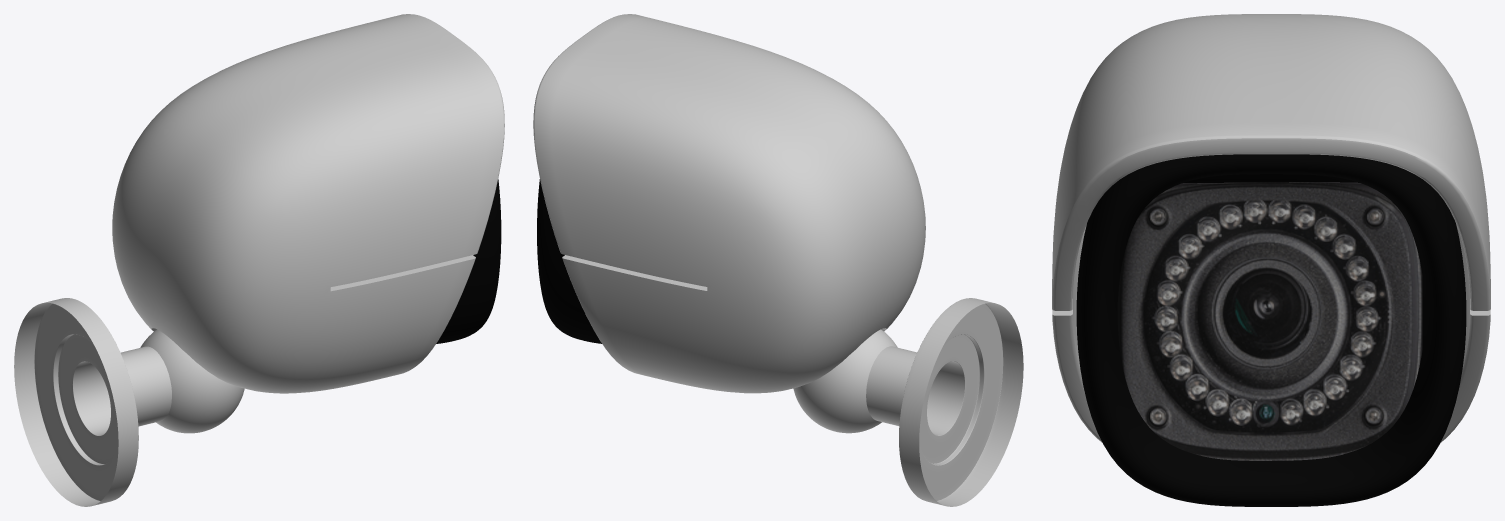
Rendered from camerafinal.glb.
3 renders of one model, left to right at view 1: azimuth 30°, elevation 25°; view 2: azimuth 150°, elevation 25°; view 3: azimuth 270°, elevation 25°, orthographic. The views are drawn at different scales.
Parts seen in each view (by area): view 1: Cube.003, Sphere.003, Cube.004; view 2: Cube.003, Sphere.003, Cube.004; view 3: SecurityCamera_Team3_Sanchez_SecuruityCameraLens_0, Cube.003, Cube.004.
Part boxes in pixels (<box>): Cube.003: <box>112,14,504,393</box>; Sphere.003: <box>14,298,244,506</box>; Cube.004: <box>436,179,501,343</box>; Cube.003: <box>533,14,925,393</box>; Sphere.003: <box>793,298,1023,506</box>; Cube.004: <box>537,179,601,343</box>; SecurityCamera_Team3_Sanchez_SecuruityCameraLens_0: <box>1117,182,1422,460</box>; Cube.003: <box>1052,14,1490,442</box>; Cube.004: <box>1076,154,1466,506</box>.
Bounding box in the file's own units: 1.23 × 1.11 × 0.8386.
3 materials, 1 textured.
